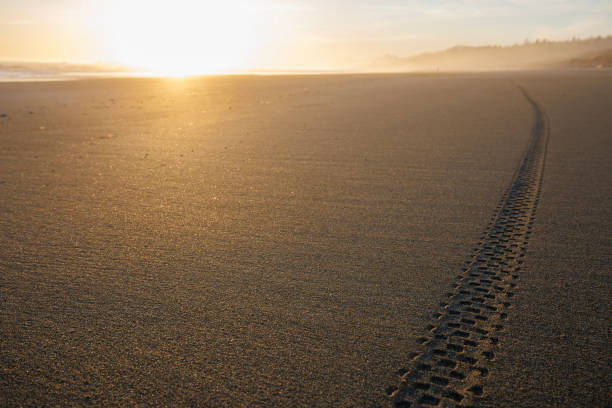vehicle_track: (386, 88, 548, 407)
